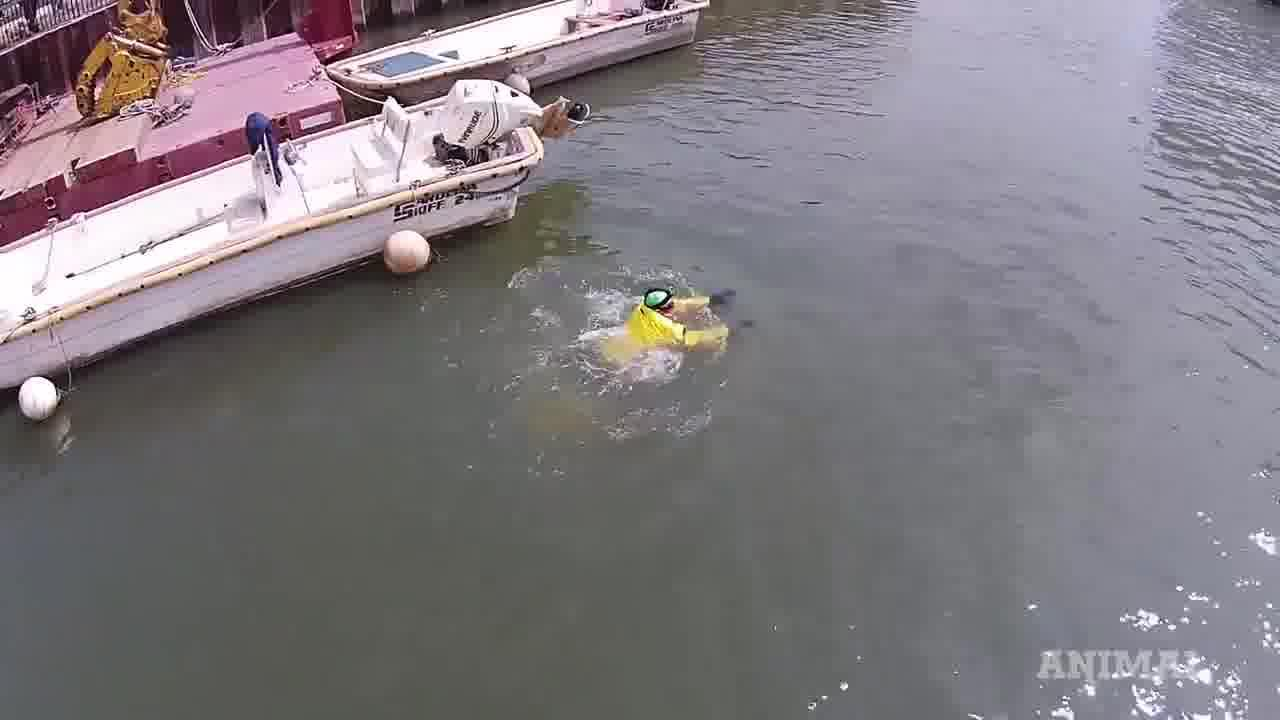swimmer: (609, 279, 770, 370)
